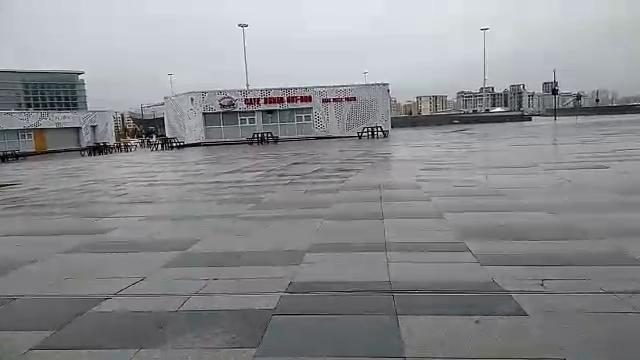kebab: (200, 86, 385, 142)
